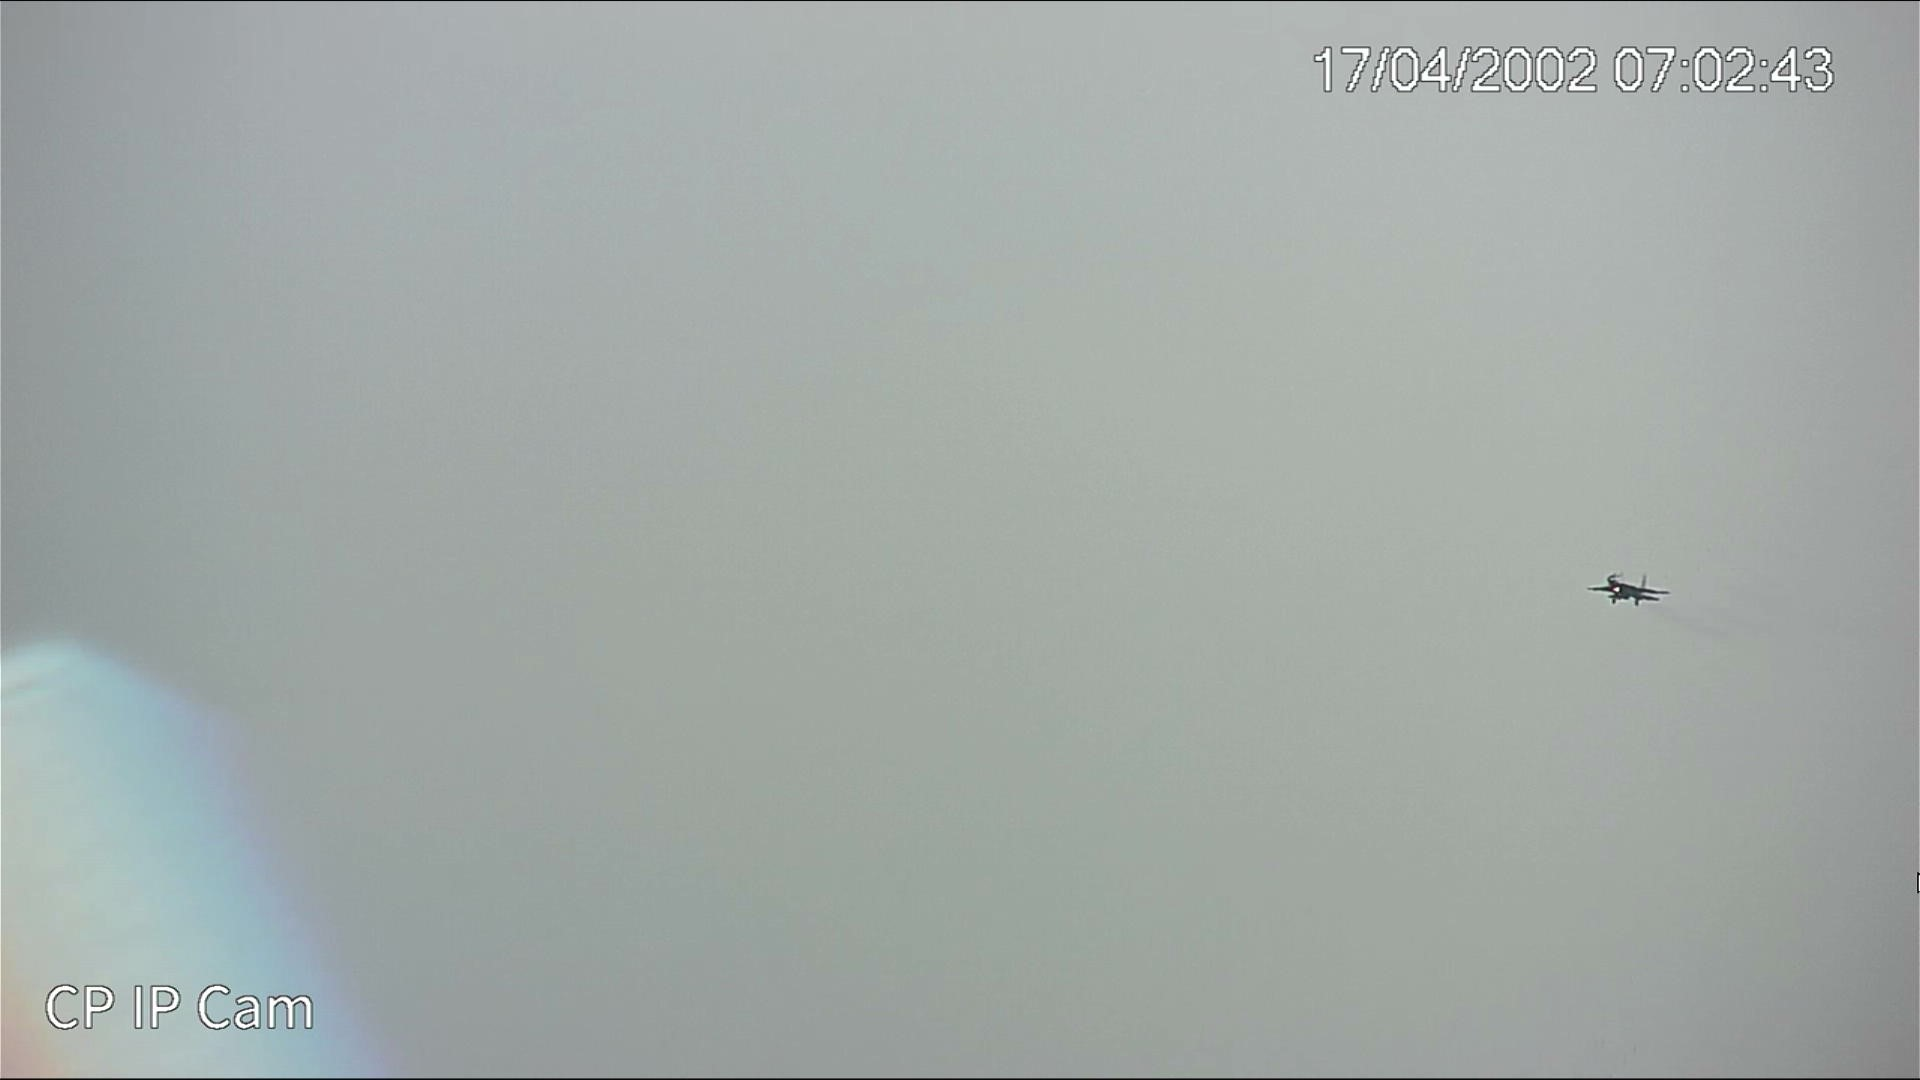SU_30: (1589, 570, 1667, 611)
